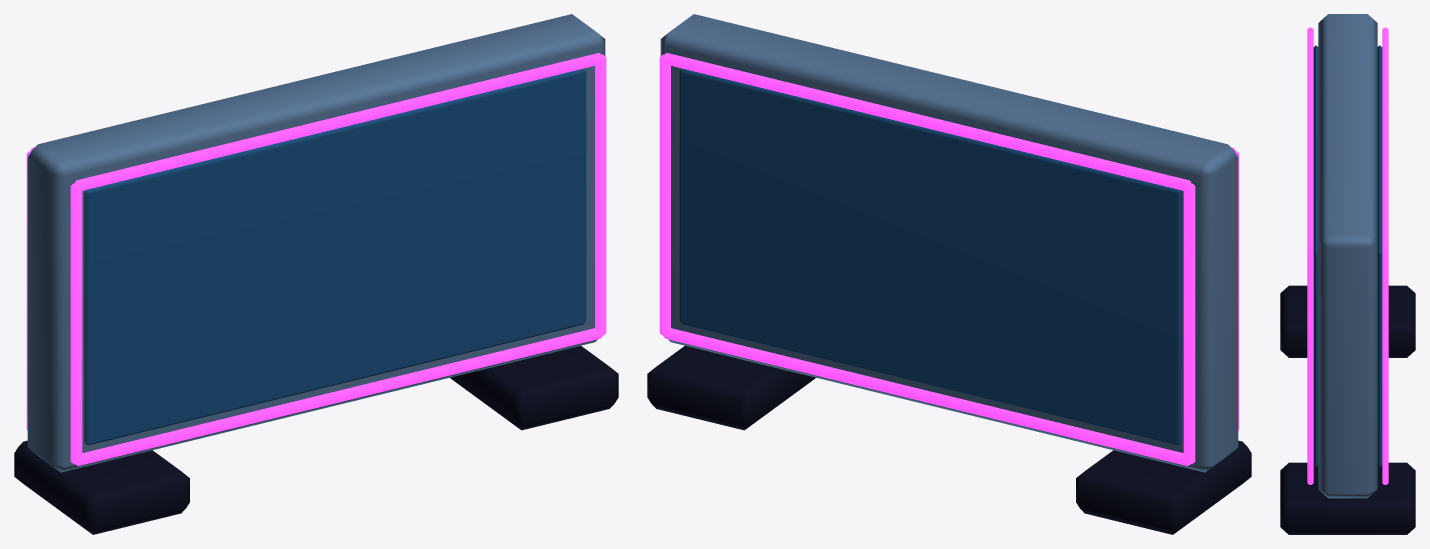
File: NT_Reflector_Magenta.fbx
The picture shows the model from 3 angles, left to right: view 1: azimuth 30°, elevation 25°; view 2: azimuth 150°, elevation 25°; view 3: azimuth 270°, elevation 25°; orthographic projection. The views are drawn at different scales.
Parts seen in each view (by area): view 1: NT_Reflector_Magenta__ReflectorMesh; view 2: NT_Reflector_Magenta__ReflectorMesh; view 3: NT_Reflector_Magenta__ReflectorMesh.
Part boxes in pixels (x1,y1,x2,y2): NT_Reflector_Magenta__ReflectorMesh: (14,14,618,534); NT_Reflector_Magenta__ReflectorMesh: (647,14,1251,534); NT_Reflector_Magenta__ReflectorMesh: (1280,14,1415,534).
Bounding box in the file's own units: 2.2 × 1.36 × 0.55.
